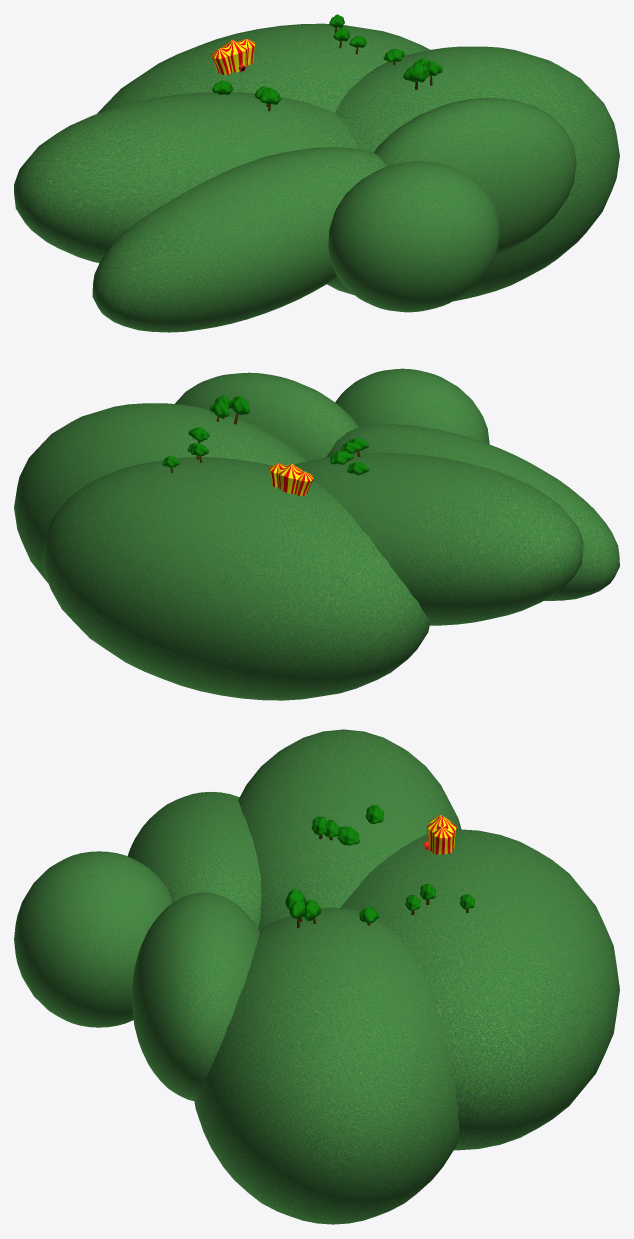
The model's file is title-screen.glb.
3 views of the same model, one above another, from view 1: azimuth 30°, elevation 25°; view 2: azimuth 150°, elevation 25°; view 3: azimuth 270°, elevation 25° (orthographic). The views are drawn at different scales.
Visible parts, largest first — view 1: Sphere.004, Sphere.002, Sphere.003, Sphere.006, Sphere.005, Sphere, Tent Base.001; view 2: Sphere, Sphere.002, Sphere.003, Sphere.004, Sphere.005, Sphere.006, Tent Base.001; view 3: Sphere.003, Sphere, Sphere.002, Sphere.006, Sphere.005, Sphere.004, Tent Base.001.
Part boxes in pixels (<box>): Sphere.004: <box>92,147,386,332</box>; Sphere.002: <box>14,92,357,263</box>; Sphere.003: <box>327,46,619,301</box>; Sphere.006: <box>328,161,499,312</box>; Sphere.005: <box>374,98,576,255</box>; Sphere: <box>97,23,429,113</box>; Tent Base.001: <box>211,38,255,74</box>; Sphere: <box>42,457,430,700</box>; Sphere.002: <box>294,453,583,625</box>; Sphere.003: <box>14,403,307,582</box>; Sphere.004: <box>326,424,619,601</box>; Sphere.005: <box>175,372,358,461</box>; Sphere.006: <box>335,368,489,444</box>; Tent Base.001: <box>269,463,313,495</box>; Sphere.003: <box>194,907,459,1224</box>; Sphere: <box>340,829,619,1150</box>; Sphere.002: <box>238,729,461,930</box>; Sphere.006: <box>14,851,171,1027</box>; Sphere.005: <box>131,892,259,1101</box>; Sphere.004: <box>127,792,261,927</box>; Tent Base.001: <box>427,814,456,854</box>.
Size of what is drawn, in the model's own units: 561 by 235 by 445.
6 materials, 1 textured.
